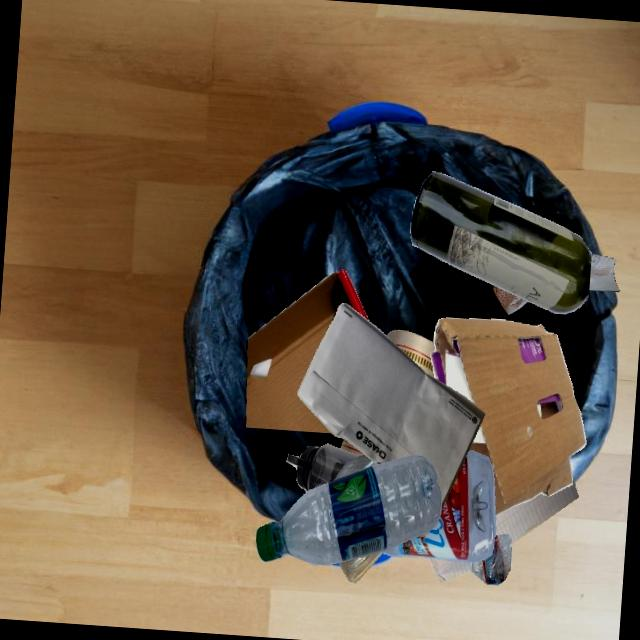cardboard: (430, 317, 586, 515), (245, 268, 369, 433)
glass: (409, 171, 591, 313)
paper: (297, 302, 485, 510), (494, 479, 578, 544), (589, 253, 619, 291), (492, 285, 530, 315), (428, 557, 471, 581)
plastic: (255, 455, 440, 564), (319, 462, 438, 533), (438, 450, 495, 559), (286, 443, 359, 491), (382, 533, 485, 562), (470, 534, 511, 584), (337, 551, 384, 582)
trash: (385, 329, 435, 378)
